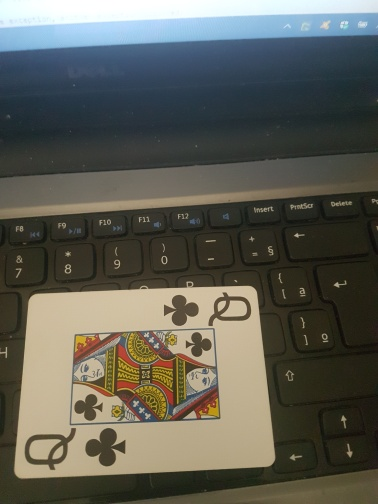queen: (15, 286, 276, 478)
